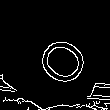O_NW: (19, 22, 87, 87)
